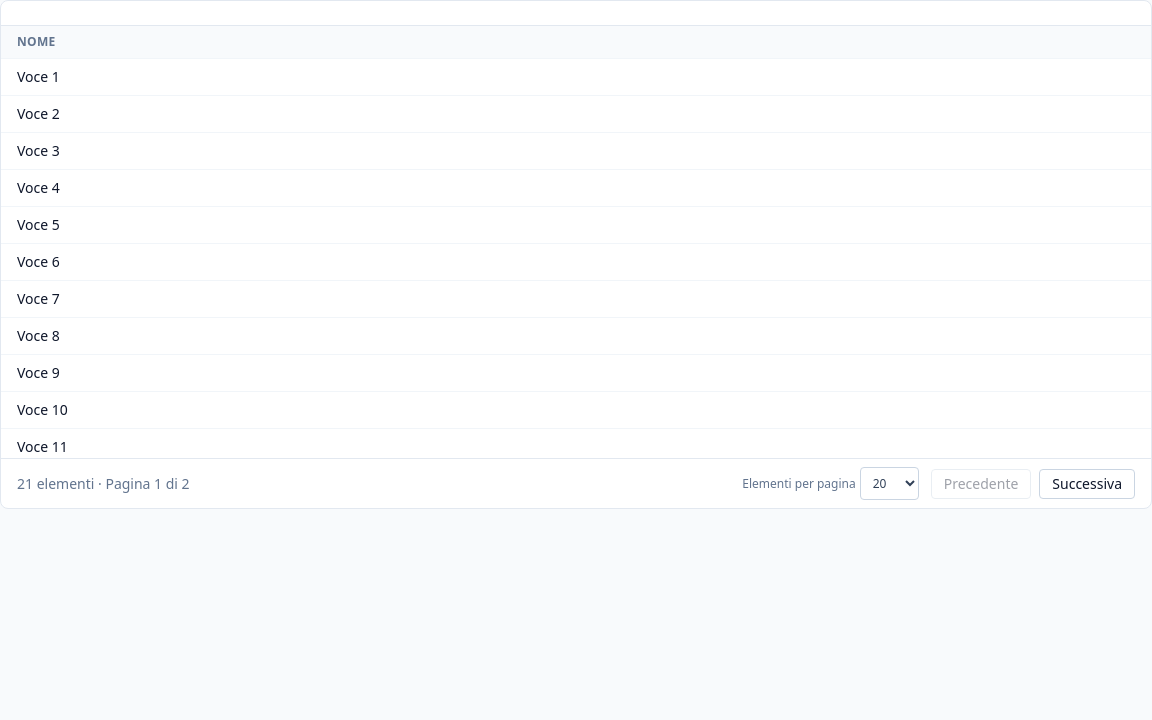
EntitySection › pagina le righe
Check: the text "21 elementi · Pagina 1 di 2" is shown, box [17,474,190,494]
Click the button "Successiva" at (1087, 484), box [1039,468,1135,498]
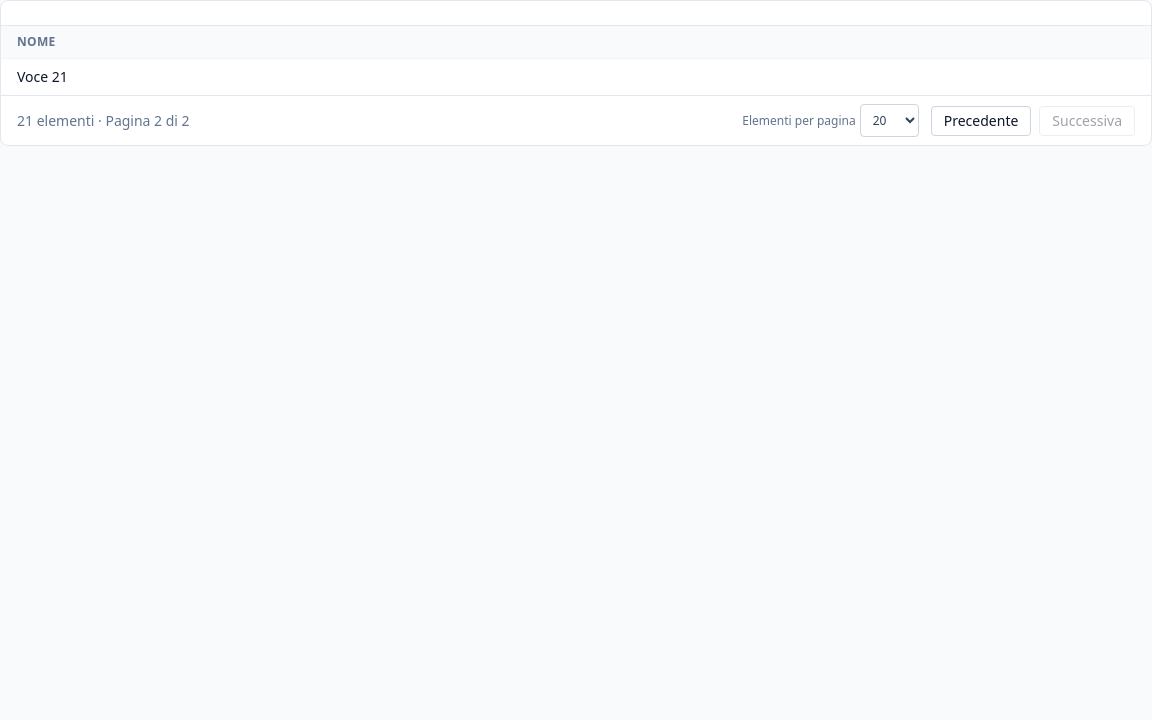
Check: the number of rows is 2, box [1,26,1151,58]; [1,58,1151,95]
Check: the text "Voce 21" is shown, box [1,58,806,95]
Check: the text "21 elementi · Pagina 2 di 2" is shown, box [17,110,190,130]
